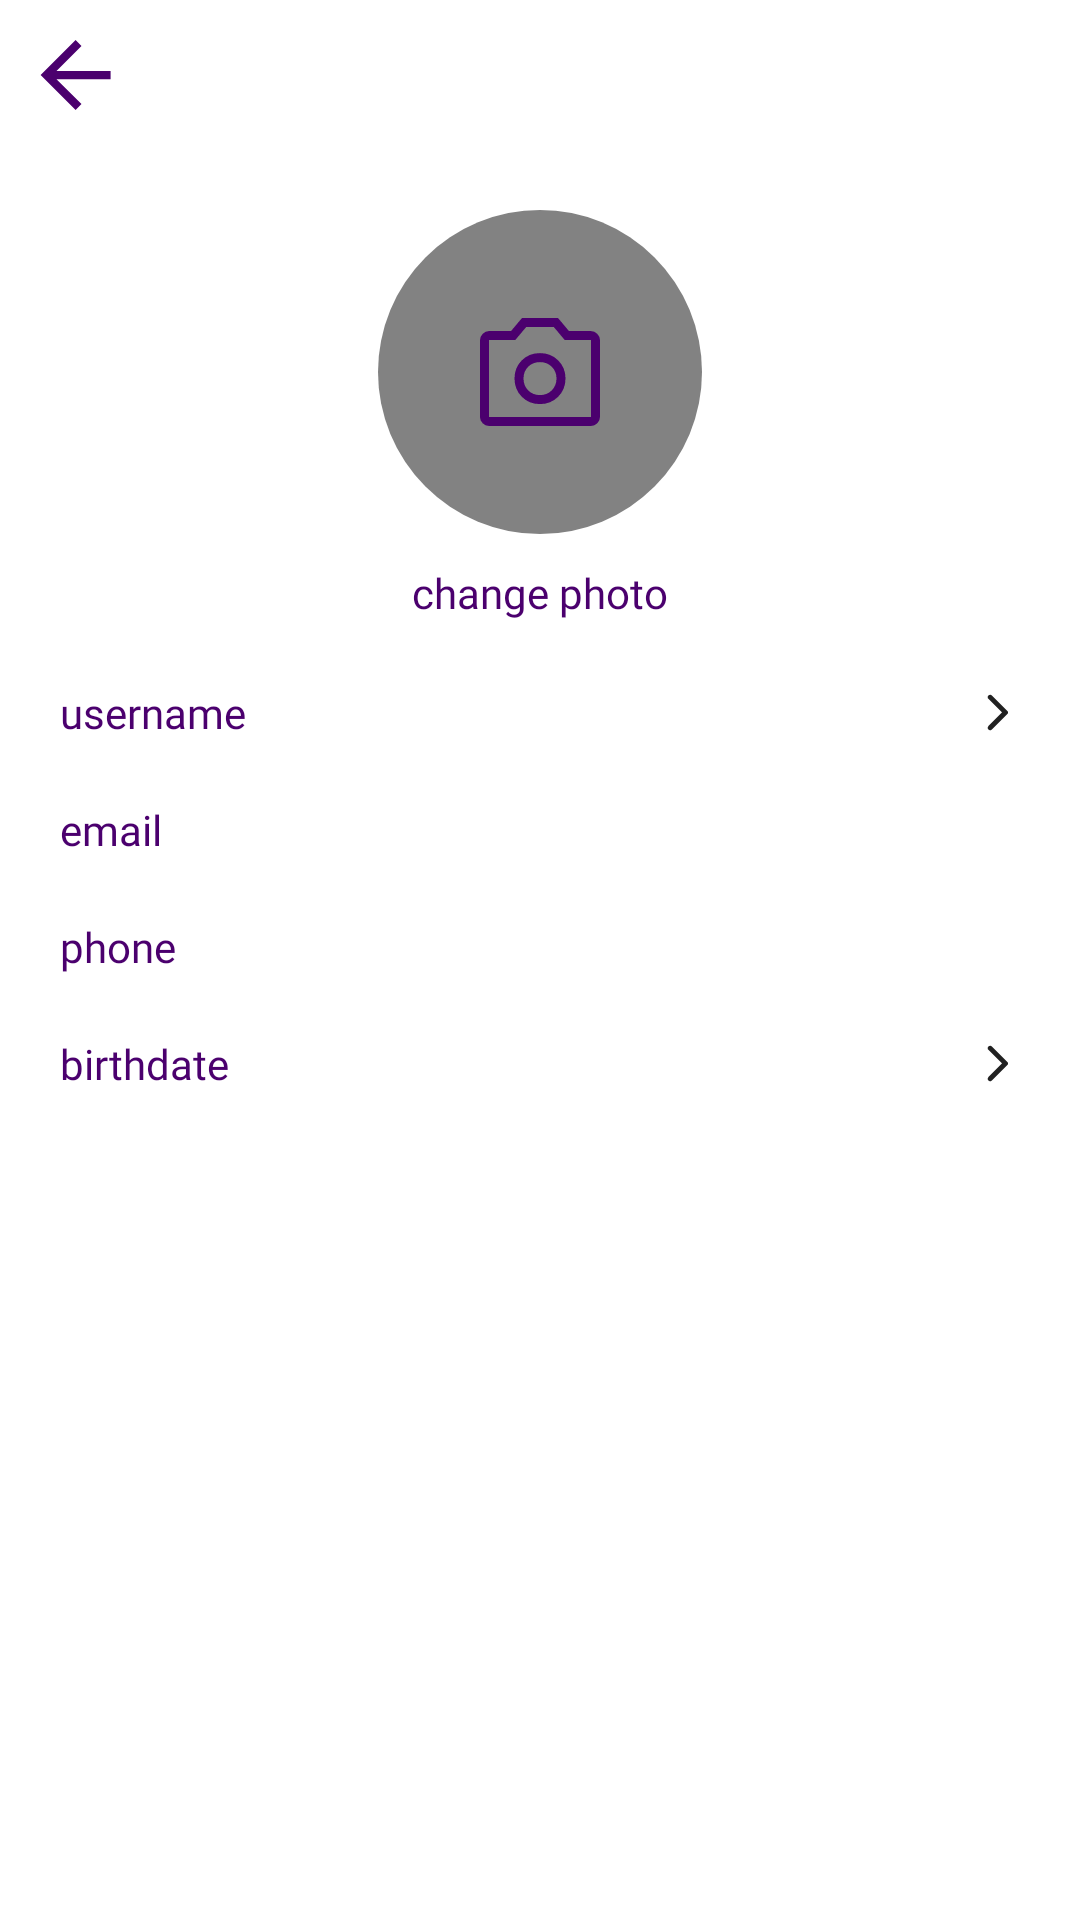

Icon click points for this 1080 x 1920 phone screenshot, format (x=x, y=y):
back: (x=76, y=75)
camera: (x=540, y=372)
forward: (x=997, y=712), (x=997, y=1063)
